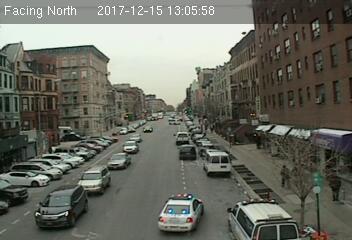car: (34, 185, 89, 228), (79, 167, 111, 194), (106, 154, 131, 170), (178, 144, 197, 160), (122, 141, 140, 154), (174, 132, 190, 145), (130, 134, 141, 142)
pedestrian: (280, 164, 293, 193)
police: (227, 197, 301, 239), (157, 193, 206, 235)
truck: (204, 151, 232, 178)
